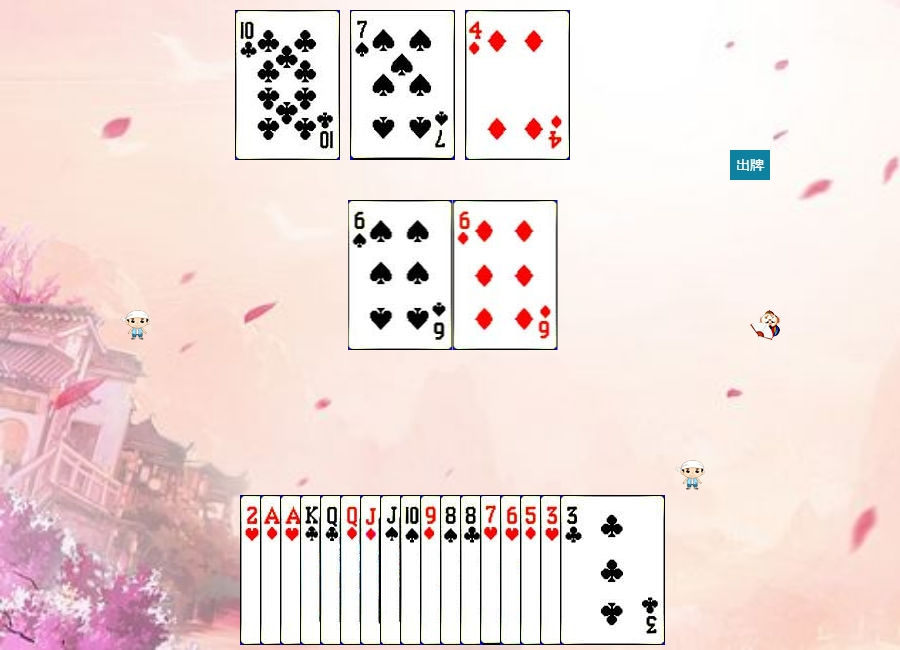10~2: (235, 10, 340, 160)
10~4: (400, 495, 505, 645)
11~1: (360, 495, 465, 645)
11~4: (380, 495, 485, 645)
12~1: (340, 495, 445, 645)
12~2: (320, 495, 425, 645)
13~2: (300, 495, 405, 645)
14~1: (260, 495, 365, 645)
14~3: (280, 495, 385, 645)
15~3: (240, 495, 345, 645)
3~2: (560, 495, 665, 645)
3~3: (540, 495, 645, 645)
4~1: (465, 10, 570, 160)
5~1: (520, 495, 625, 645)
6~1: (453, 200, 558, 350)
6~3: (500, 495, 605, 645)
6~4: (348, 200, 453, 350)
7~3: (480, 495, 585, 645)
7~4: (350, 10, 455, 160)
8~2: (460, 495, 565, 645)
8~4: (440, 495, 545, 645)
9~1: (420, 495, 525, 645)
